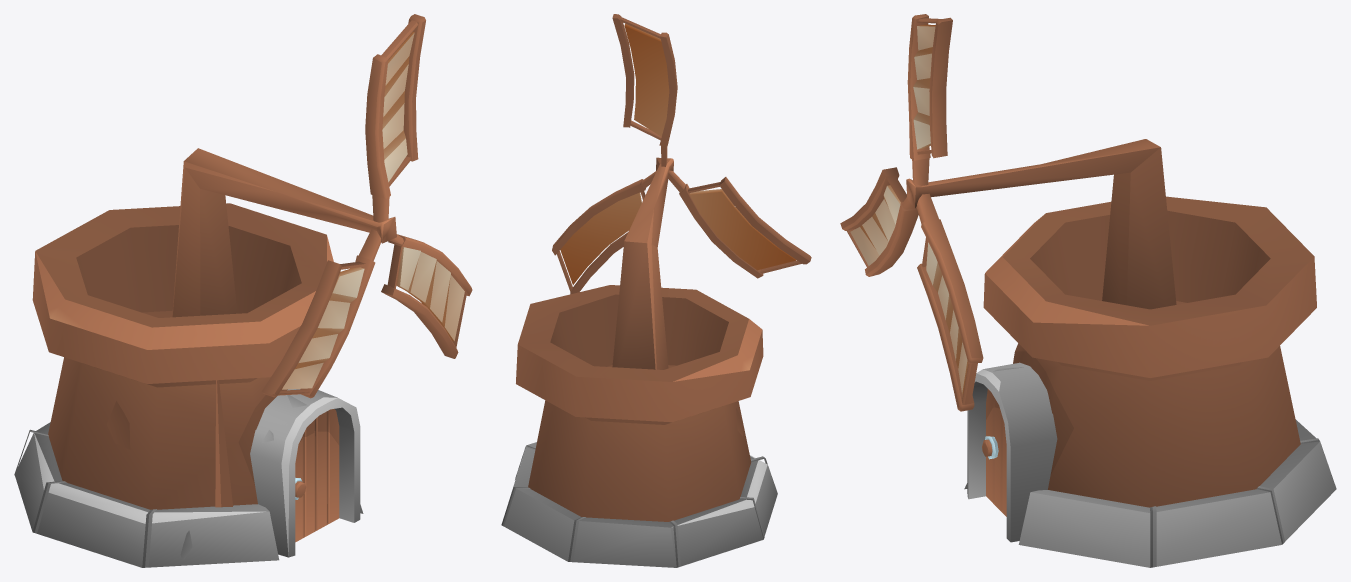
Rendered from towerlv2.glb.
The picture shows the model from 3 angles, left to right: view 1: azimuth 30°, elevation 25°; view 2: azimuth 150°, elevation 25°; view 3: azimuth 270°, elevation 25°; orthographic projection. The views are drawn at different scales.
Parts seen in each view (by area): view 1: towerlv2, Cube.022, Cube.017; view 2: towerlv2, Cube.022, Cube.017; view 3: towerlv2, Cube.022, Cube.017.
Part boxes in pixels (x1,y1,x2,y2): towerlv2: (14, 203, 363, 567); Cube.022: (261, 14, 472, 398); Cube.017: (172, 148, 396, 317); towerlv2: (501, 285, 777, 567); Cube.022: (552, 14, 811, 294); Cube.017: (612, 157, 673, 369); towerlv2: (964, 196, 1336, 567); Cube.022: (840, 14, 983, 411); Cube.017: (906, 139, 1176, 309).
Bounding box in the file's own units: 4.16 × 5.86 × 4.92.
1 material, 1 textured.
